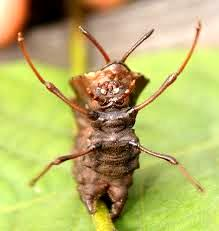Lobster Moth: (15, 19, 202, 216)
